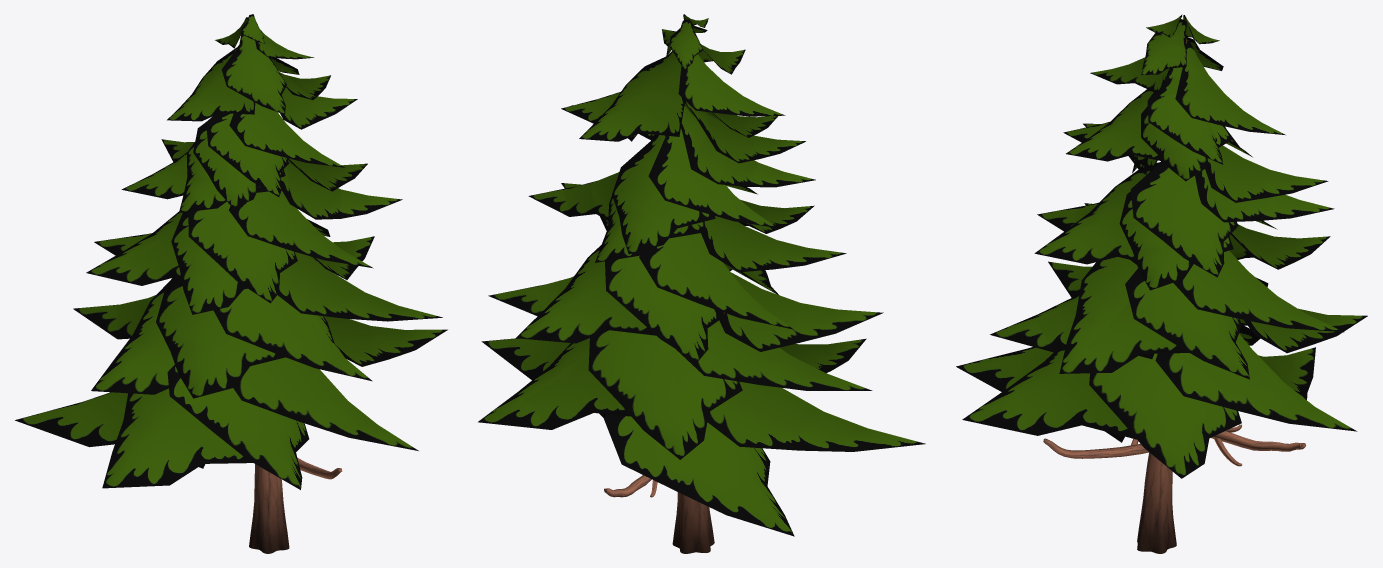
File: pine_2.gltf
The picture shows the model from 3 angles, left to right: view 1: azimuth 30°, elevation 25°; view 2: azimuth 150°, elevation 25°; view 3: azimuth 270°, elevation 25°; orthographic projection. The views are drawn at different scales.
Visible parts, largest first — view 1: Pine_2; view 2: Pine_2; view 3: Pine_2.
Boxes of the visible parts, x1,y1,x2,y2 form: Pine_2: [15, 14, 447, 553]; Pine_2: [478, 14, 925, 553]; Pine_2: [956, 14, 1367, 553].
Size of the model in its own units: 5.73 by 7.38 by 5.22.
2 materials, 2 textured.
